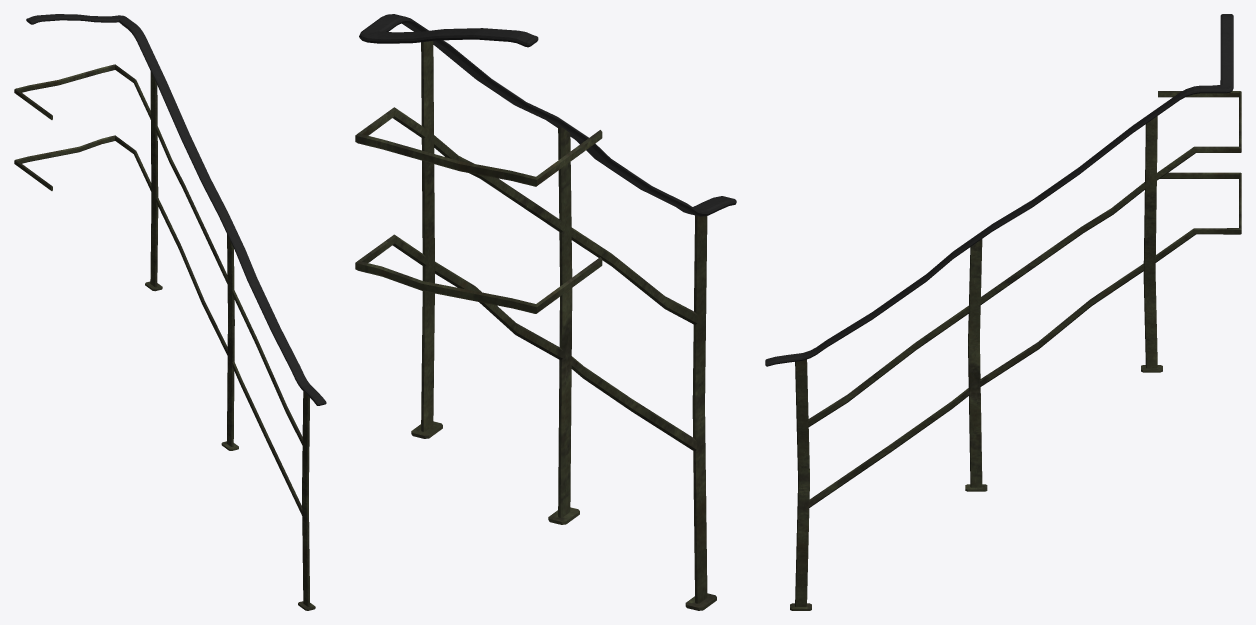
Rendered from hand_rail_2.fbx.
3 views of the same model, side by side, from view 1: azimuth 30°, elevation 25°; view 2: azimuth 150°, elevation 25°; view 3: azimuth 270°, elevation 25° (orthographic). The views are drawn at different scales.
Visible parts, largest first — view 1: hand_rail_2; view 2: hand_rail_2; view 3: hand_rail_2.
Part boxes in pixels (<box>): hand_rail_2: <box>14,14,326,610</box>; hand_rail_2: <box>355,14,736,610</box>; hand_rail_2: <box>765,14,1241,610</box>.
Size of the model in its own units: 63.61 by 274 by 217.
